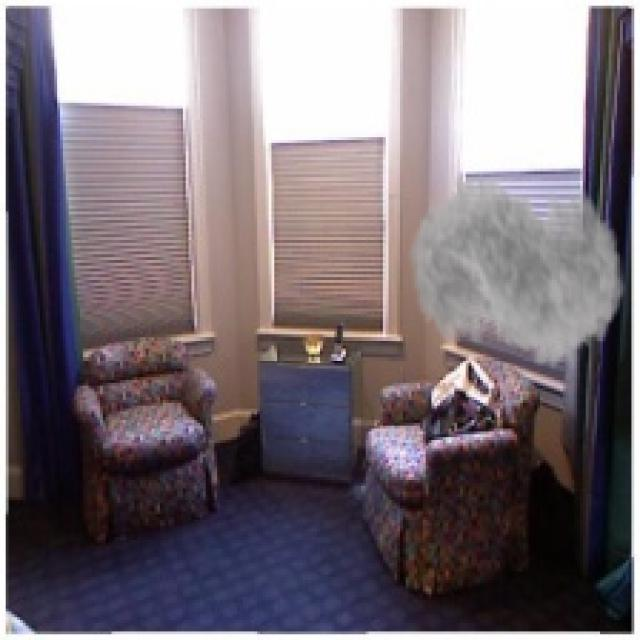smoke: (408, 148, 626, 386)
